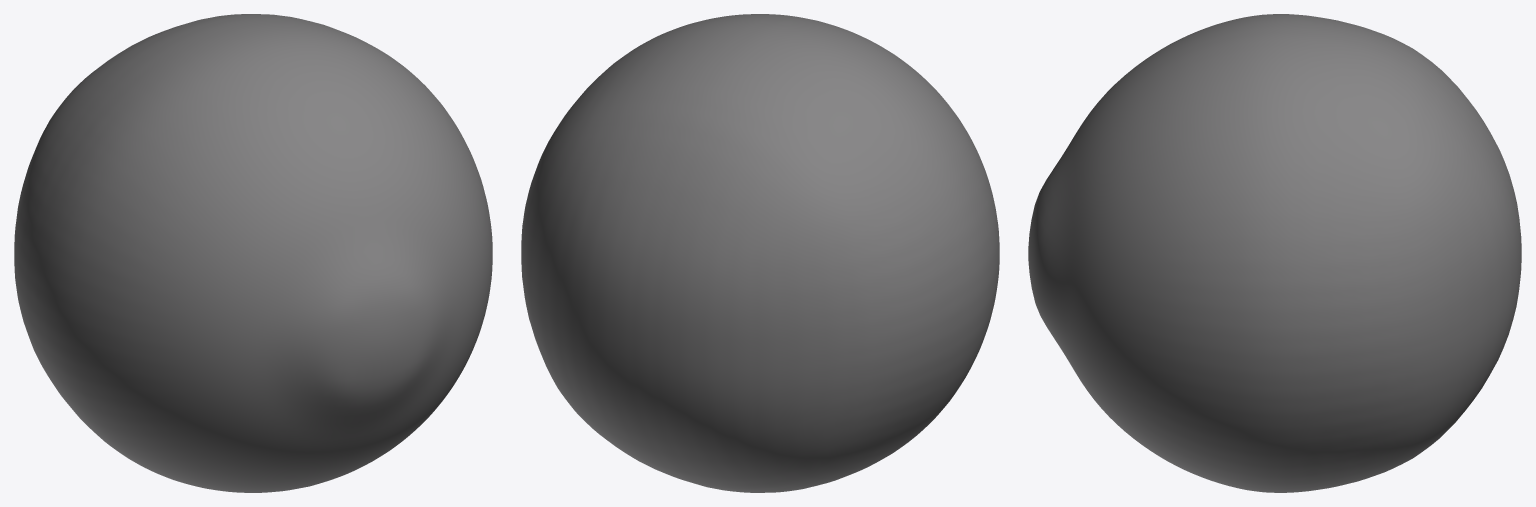
The picture shows the model from 3 angles, left to right: view 1: azimuth 30°, elevation 25°; view 2: azimuth 150°, elevation 25°; view 3: azimuth 270°, elevation 25°; orthographic projection.
Visible parts, largest first — view 1: Cornea_Mesh; view 2: Cornea_Mesh; view 3: Cornea_Mesh.
Part boxes in pixels (x1,y1,x2,y2): Cornea_Mesh: [14, 14, 492, 492]; Cornea_Mesh: [521, 14, 999, 492]; Cornea_Mesh: [1028, 14, 1521, 492].
Bounding box in the file's own units: 0.3026 × 0.3029 × 0.3116.
Materials: 3 (3 with a texture image).
